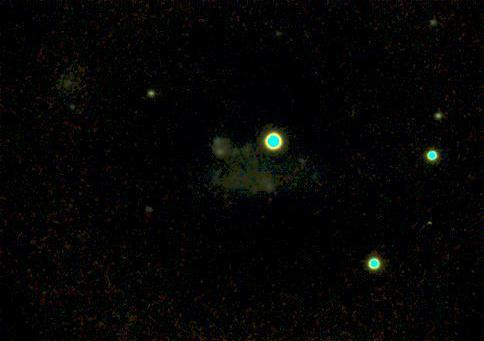star: (290, 142, 320, 172)
